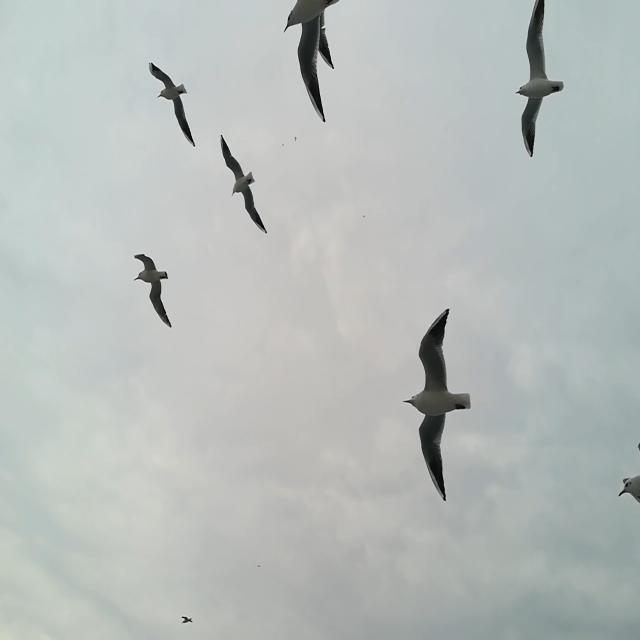bird: (400, 308, 475, 502), (514, 1, 566, 159), (283, 0, 343, 129), (220, 136, 270, 236), (148, 62, 196, 147), (132, 254, 174, 328), (618, 444, 640, 514), (179, 611, 195, 628)
